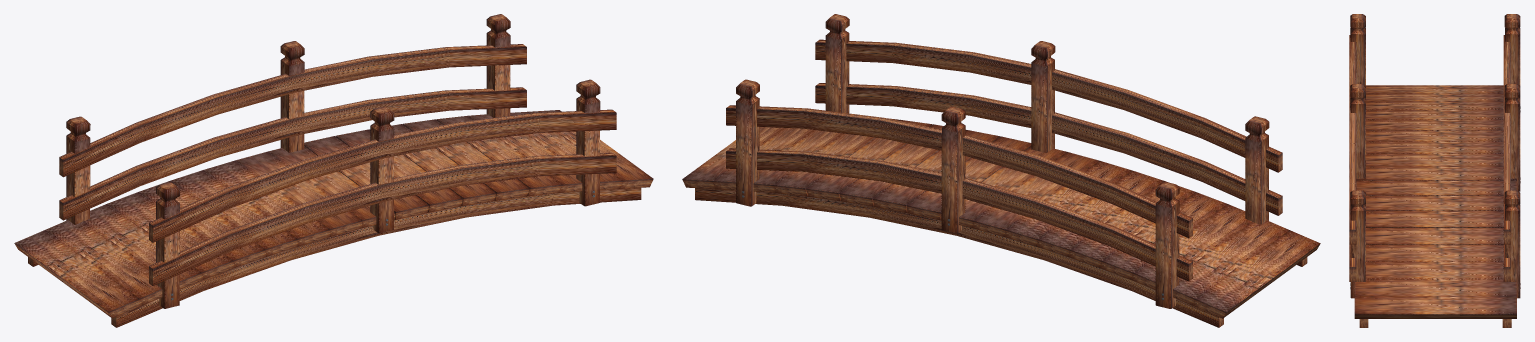
File: PuenteMaderaText.fbx
3 renders of one model, left to right at view 1: azimuth 30°, elevation 25°; view 2: azimuth 150°, elevation 25°; view 3: azimuth 270°, elevation 25°, orthographic. The views are drawn at different scales.
Visible parts, largest first — view 1: Box093; view 2: Box093; view 3: Box093.
Boxes of the visible parts, x1,y1,x2,y2 form: Box093: (14,14,653,327); Box093: (682,14,1320,327); Box093: (1349,14,1520,327).
Size of the model in its own units: 2.38 by 0.6402 by 0.7511.
